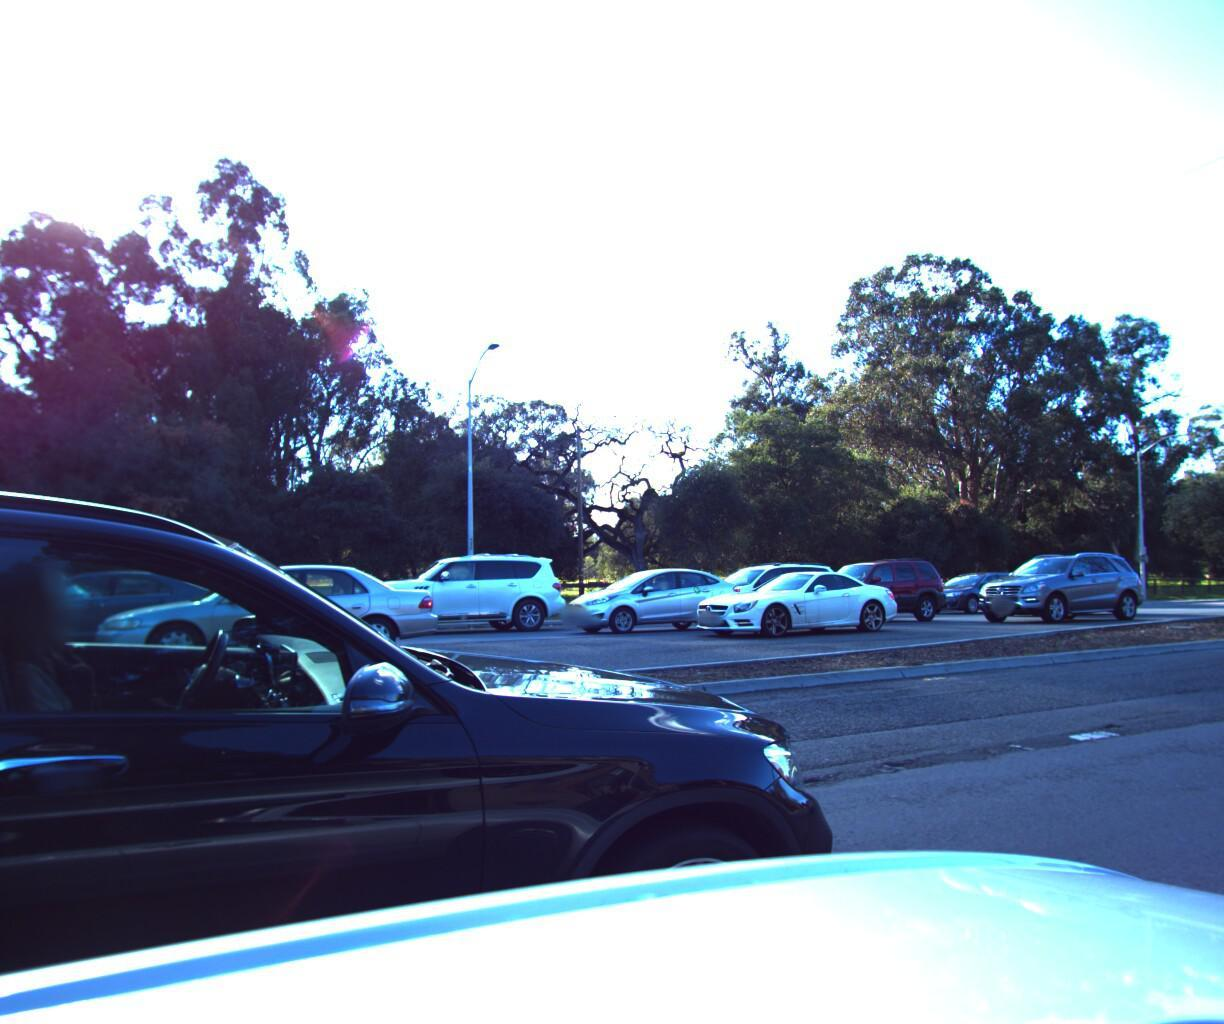car: (0, 293, 915, 1024), (84, 560, 454, 676), (347, 546, 578, 635), (675, 563, 915, 637), (960, 543, 1152, 622), (551, 561, 759, 633), (776, 551, 953, 621), (682, 555, 853, 621), (913, 566, 1043, 610), (1217, 545, 1224, 607)
